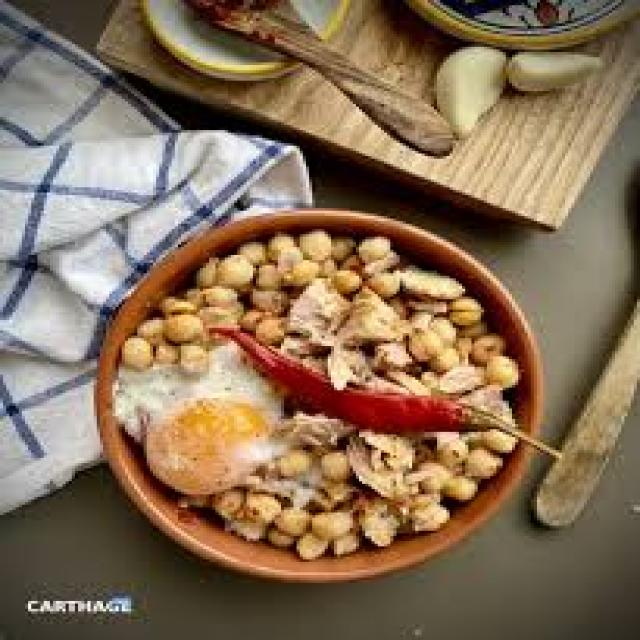Lablabi: (116, 231, 550, 530)
